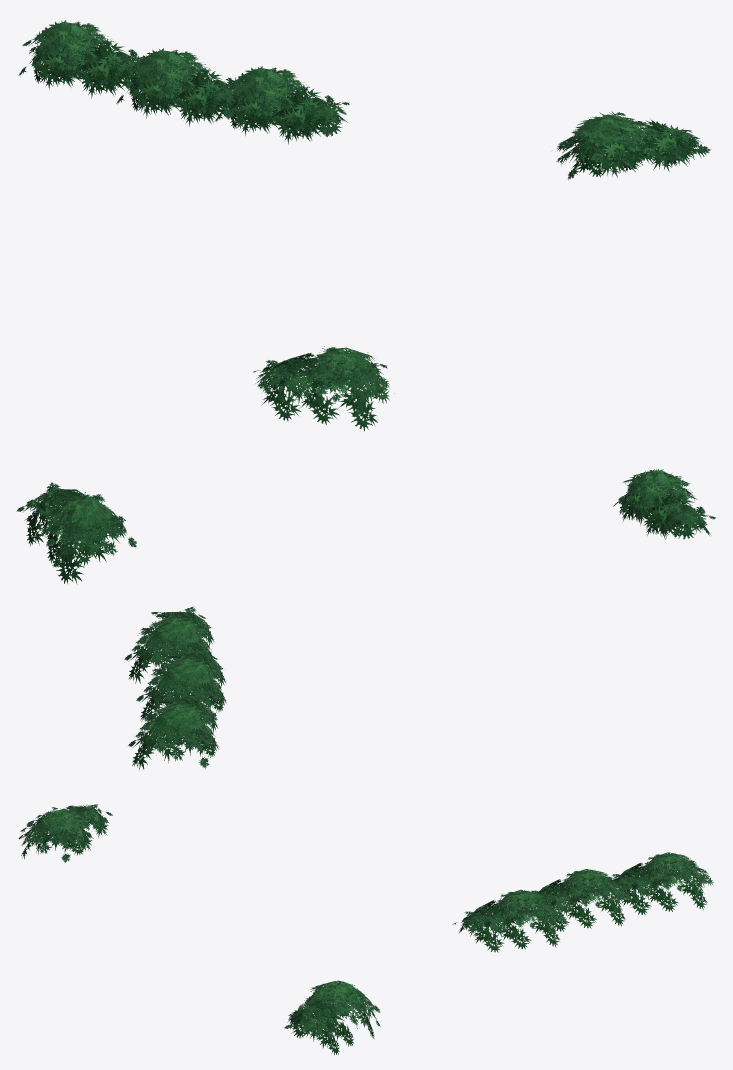
File: Area_12_28.fbx
3 views of the same model, one above another, from view 1: azimuth 30°, elevation 25°; view 2: azimuth 150°, elevation 25°; view 3: azimuth 270°, elevation 25° (orthographic). The views are drawn at different scales.
Visible parts, largest first — view 1: Area_12_28; view 2: Area_12_28; view 3: Area_12_28.
Part boxes in pixels (box(x1,y1,x2,y2)): Area_12_28: box(18, 20, 710, 431); Area_12_28: box(16, 469, 715, 769); Area_12_28: box(18, 804, 713, 1054).
Size of the model in its own units: 2708 by 412 by 3557.
